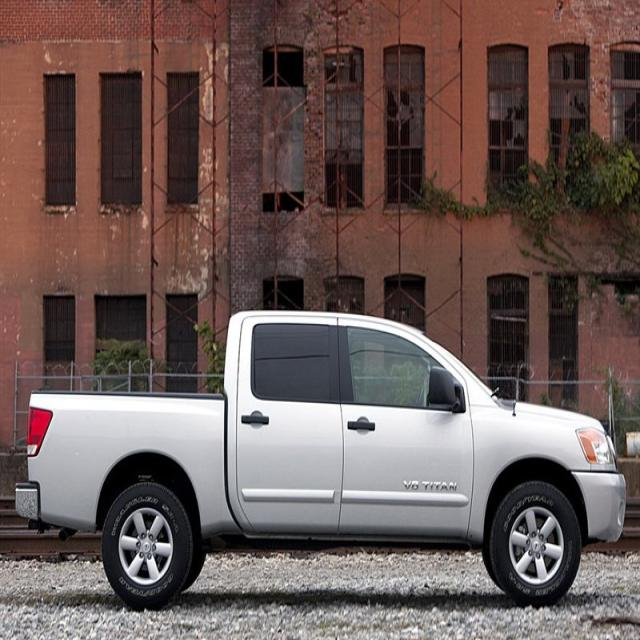back_right_side_light: (25, 405, 54, 457)
door: (236, 314, 344, 536)
front_bumper: (570, 467, 630, 541)
front_right_side_door: (336, 314, 476, 548)
front_right_side_light: (574, 424, 616, 472)
front_right_side_mirror: (428, 363, 458, 411)
rear_bumper: (14, 476, 45, 526)
wheel: (101, 478, 193, 608), (493, 482, 581, 605)
